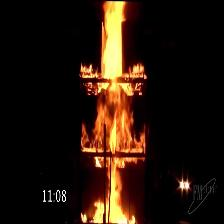fire: (78, 1, 148, 224)
